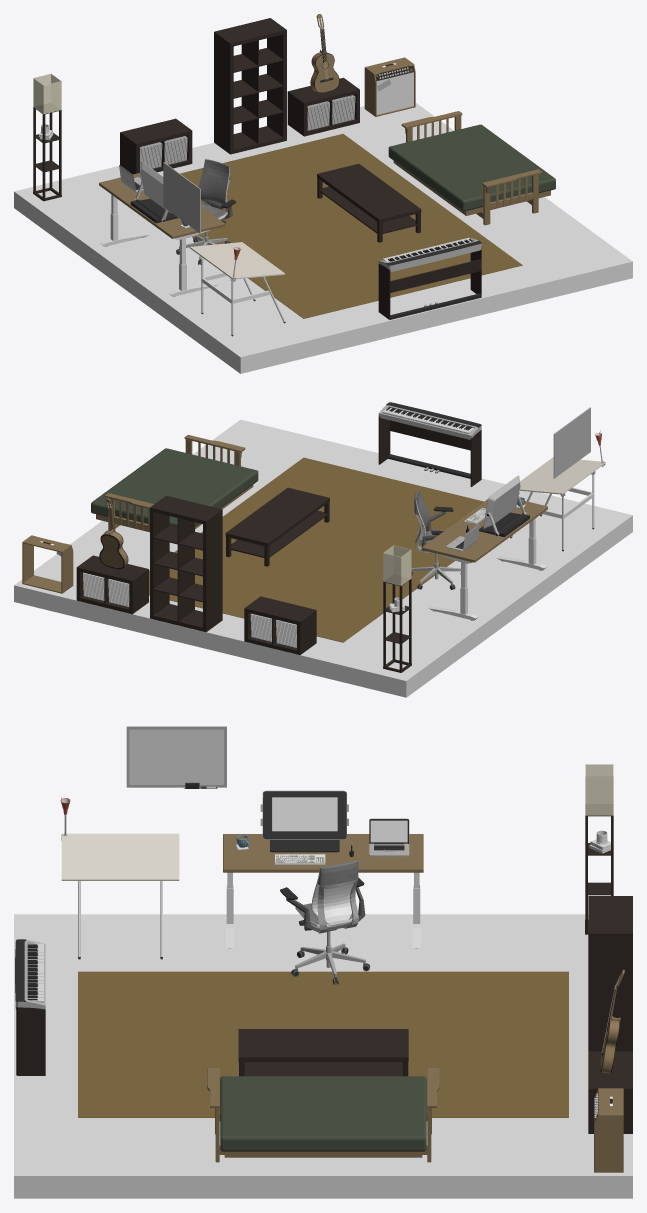
The model's file is Room_v2.glb.
The picture shows the model from 3 angles, top to bottom: view 1: azimuth 30°, elevation 25°; view 2: azimuth 150°, elevation 25°; view 3: azimuth 270°, elevation 25°; orthographic projection. The views are drawn at different scales.
Visible parts, largest first — view 1: Floor, Rug, Mattress, Ikea_Bookcase_4x2, Coffee_Table_Top, Sofa_Arm_Rests, Ikea_Bookcase_1x2_Far, Ikea_Bookcase_1x2_Near, Drafting_Table_Table, White_Board_Frame, Desk_Top, Plane.003 (+17 smaller); view 2: Floor, Rug, Mattress, Ikea_Bookcase_4x2, Coffee_Table_Top, Ikea_Bookcase_1x2_Far, Desk_Top, Ikea_Bookcase_1x2_Near, Guitar_Amp, White_Board_Frame, Drafting_Table_Table, Sofa_Arm_Rests (+18 smaller); view 3: Floor, Rug, Mattress, Ikea_Bookcase_4x2, Drafting_Table_Table, Coffee_Table_Top, White_Board_Surface, Desk_Top, Guitar_Amp, Coffee_Table_Bottom, Screen_Cintiq, Ikea_Bookcase_1x2_Near (+13 smaller).
Part boxes in pixels (x1,y1,x2,y2): Floor: [14, 103, 632, 373]; Rug: [180, 134, 522, 318]; Mattress: [388, 124, 555, 211]; Ikea_Bookcase_4x2: [214, 18, 286, 154]; Coffee_Table_Top: [317, 163, 421, 222]; Sofa_Arm_Rests: [401, 111, 541, 225]; Ikea_Bookcase_1x2_Far: [120, 118, 192, 174]; Ikea_Bookcase_1x2_Near: [287, 77, 359, 136]; Drafting_Table_Table: [189, 242, 285, 279]; White_Board_Frame: [163, 162, 200, 233]; Desk_Top: [99, 173, 224, 238]; Plane.003: [241, 40, 258, 143]; Floor: [14, 419, 632, 697]; Rug: [149, 457, 483, 642]; Mattress: [91, 448, 258, 527]; Ikea_Bookcase_4x2: [150, 495, 222, 632]; Coffee_Table_Top: [225, 487, 329, 546]; Ikea_Bookcase_1x2_Far: [244, 596, 316, 654]; Desk_Top: [422, 499, 547, 562]; Ikea_Bookcase_1x2_Near: [76, 555, 148, 614]; Guitar_Amp: [22, 535, 73, 593]; White_Board_Frame: [553, 407, 590, 478]; Drafting_Table_Table: [519, 457, 605, 494]; Sofa_Arm_Rests: [105, 434, 245, 531]; Floor: [14, 914, 632, 1198]; Rug: [78, 971, 568, 1117]; Mattress: [220, 1076, 426, 1151]; Ikea_Bookcase_4x2: [588, 896, 632, 1051]; Drafting_Table_Table: [61, 833, 179, 880]; Coffee_Table_Top: [238, 1029, 408, 1061]; White_Board_Surface: [129, 729, 223, 784]; Desk_Top: [223, 834, 423, 872]; Guitar_Amp: [594, 1088, 623, 1172]; Coffee_Table_Bottom: [244, 1062, 402, 1076]; Screen_Cintiq: [272, 797, 337, 831]; Ikea_Bookcase_1x2_Near: [588, 1051, 632, 1133].
Size of the model in its own units: 5.64 by 2.12 by 5.64.
